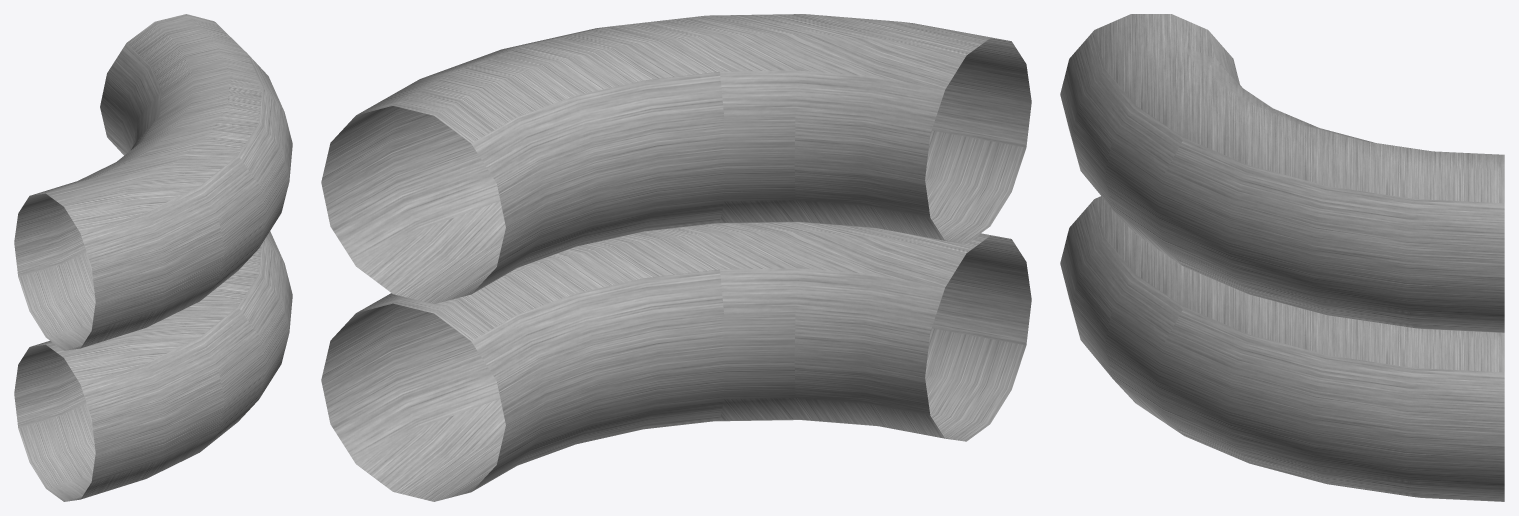
The model's file is CubeBaseFrontPipeCurv.fbx.
The picture shows the model from 3 angles, left to right: view 1: azimuth 30°, elevation 25°; view 2: azimuth 150°, elevation 25°; view 3: azimuth 270°, elevation 25°; orthographic projection. The views are drawn at different scales.
Parts seen in each view (by area): view 1: nurbsToPoly1, nurbsToPoly2; view 2: nurbsToPoly1, nurbsToPoly2; view 3: nurbsToPoly1, nurbsToPoly2.
Part boxes in pixels (x1,y1,x2,y2): nurbsToPoly1: [14, 14, 292, 350]; nurbsToPoly2: [14, 231, 292, 501]; nurbsToPoly1: [321, 14, 1031, 303]; nurbsToPoly2: [321, 222, 1031, 501]; nurbsToPoly1: [1060, 14, 1504, 332]; nurbsToPoly2: [1060, 196, 1504, 501].
Size of the model in its own units: 0.629 by 0.5152 by 0.629.
Materials: 1 (1 with a texture image).
